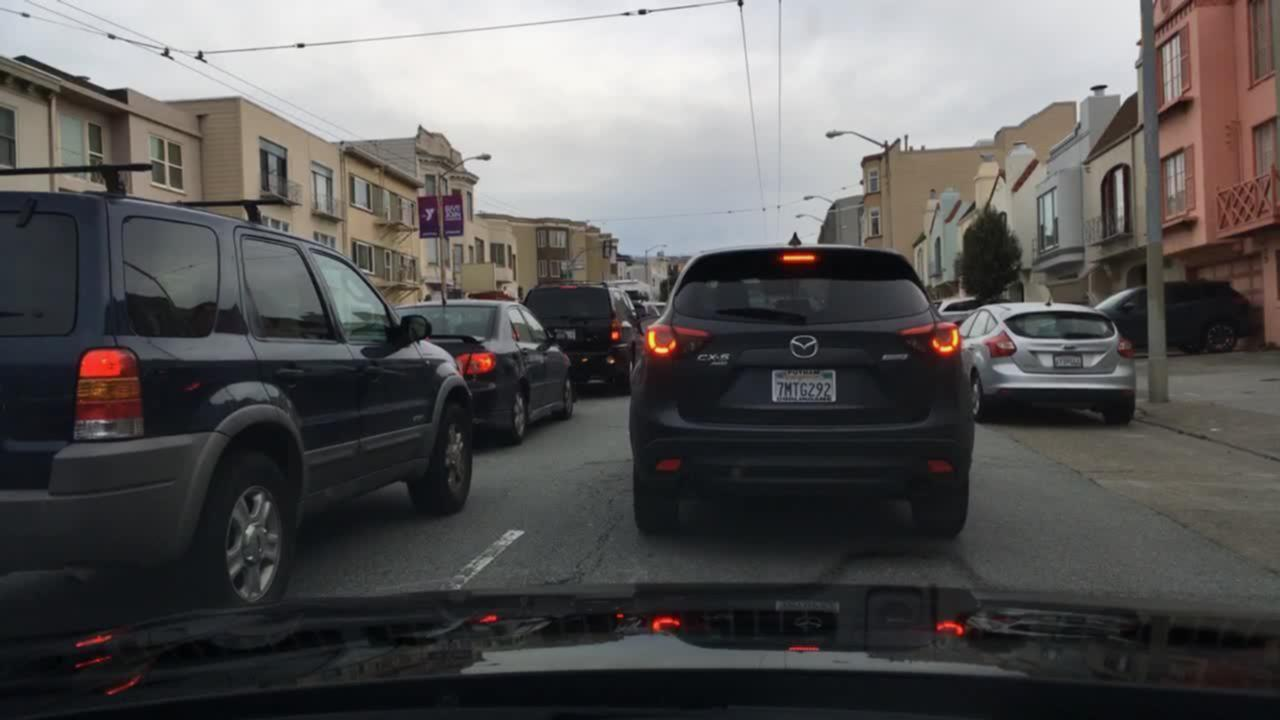Mazda: (789, 333, 820, 360)
